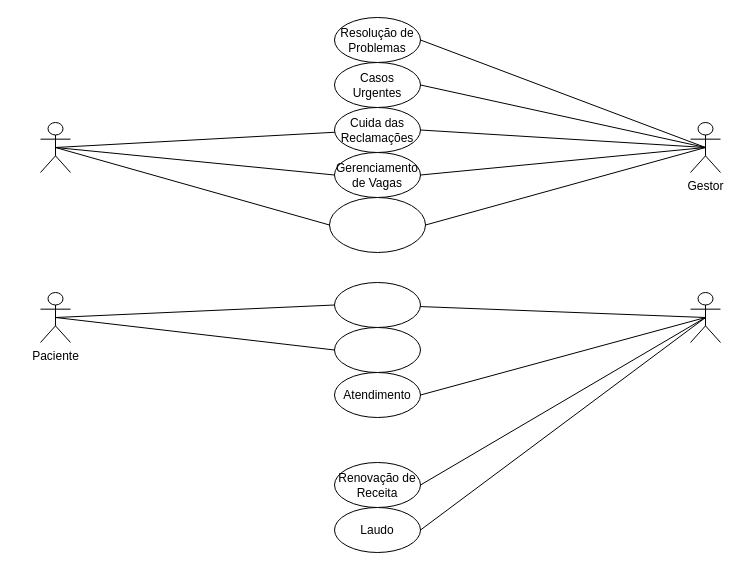
This 742x570 diagram has some shape labels left out. The shapes that lost their labels are listed below. From the top down, each one's box as (x1, y1, x2, y2) in pixels, then its label:
(40, 122, 70, 172): Administração
(328, 196, 426, 252): Gerenciamento de agendamento
(334, 282, 420, 328): Agenda consulta
(690, 292, 720, 342): Médico
(334, 326, 420, 372): Recebe Senha
